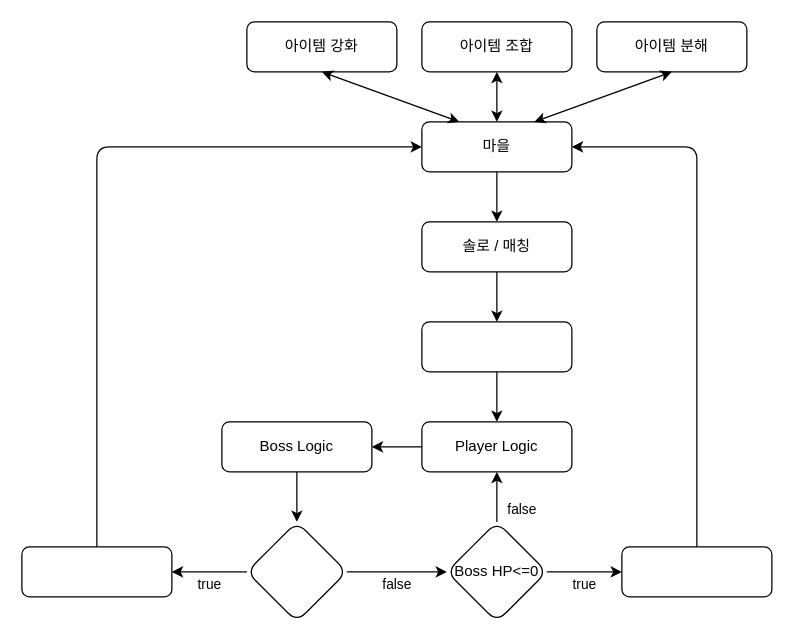
This 794x644 diagram has some shape labels left out. The shapes that lost their labels are listed below. From the top down, each one's centre as x and y in pixels, then its label:
At (496,346): "보스".
At (96,571): "사망".
At (296,571): "HP<=0".
At (696,571): "보상 드롭".
